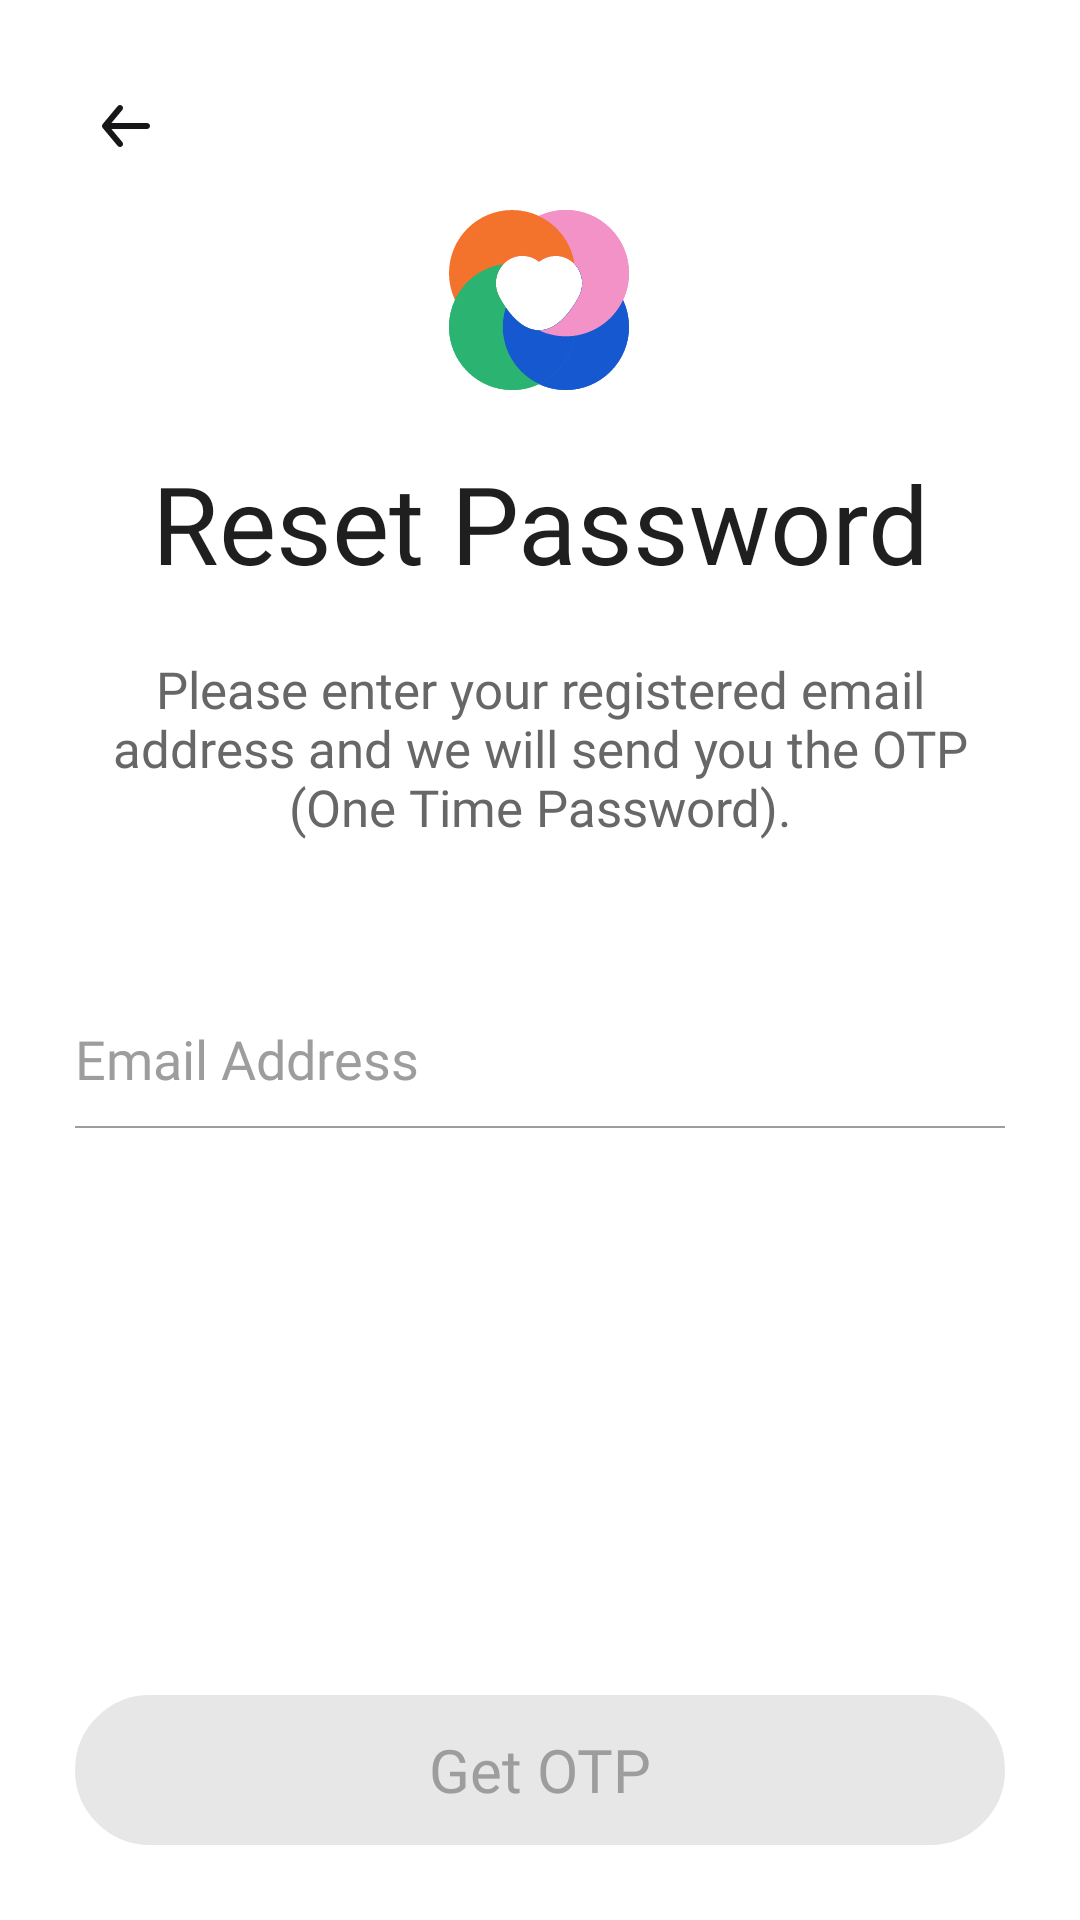

Screen size 1080×1920. Icon name, then its center in pixels as [x,y]:
back: [126,126]
